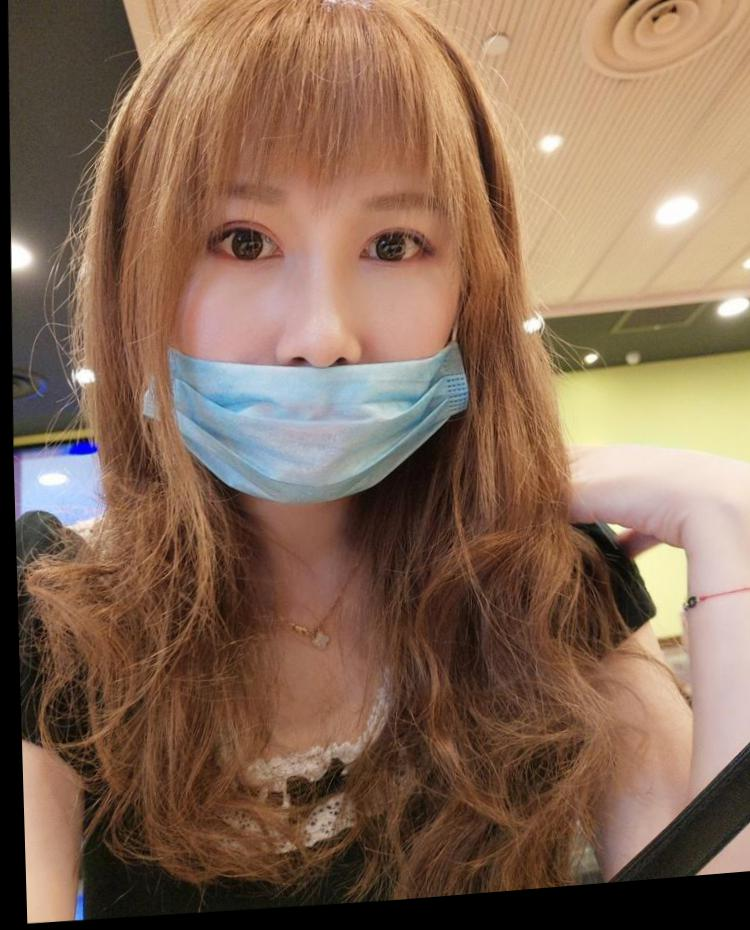WRONG: (129, 115, 478, 527)
